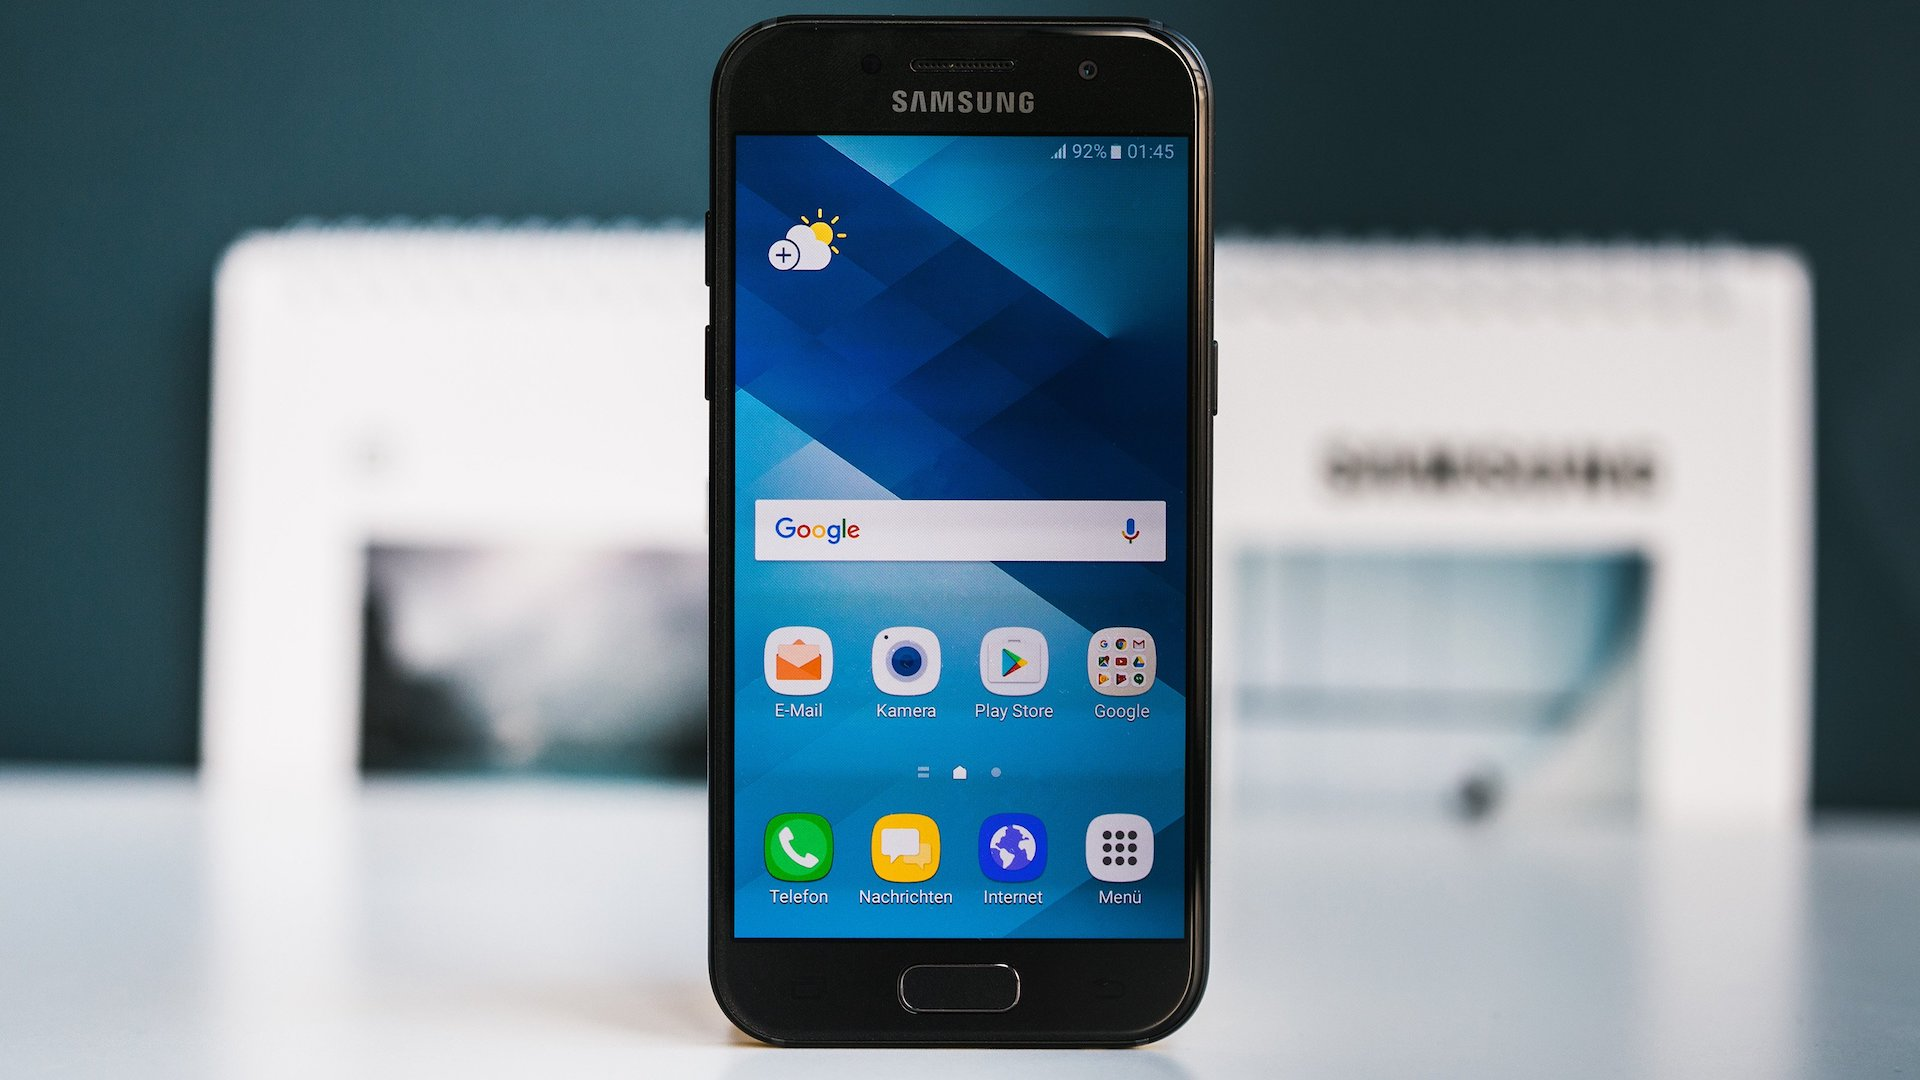smartphone: (699, 8, 1224, 1056)
